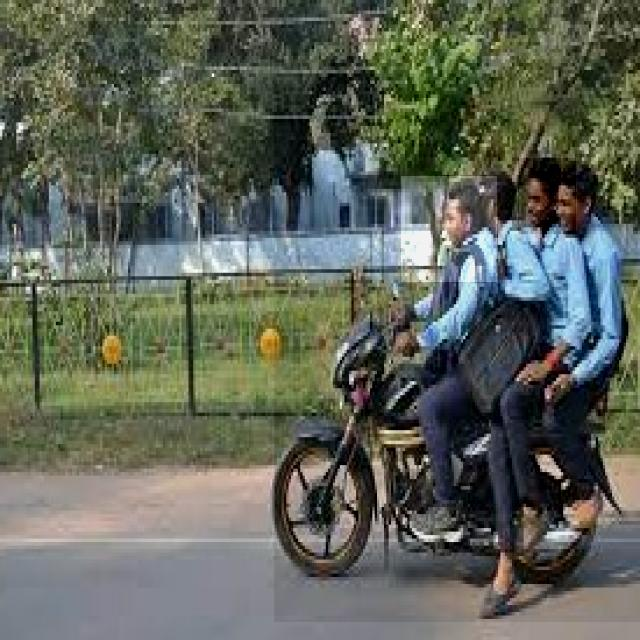No_Helmet: (401, 176, 497, 282), (518, 158, 576, 234)
Overloading: (274, 59, 640, 622)
